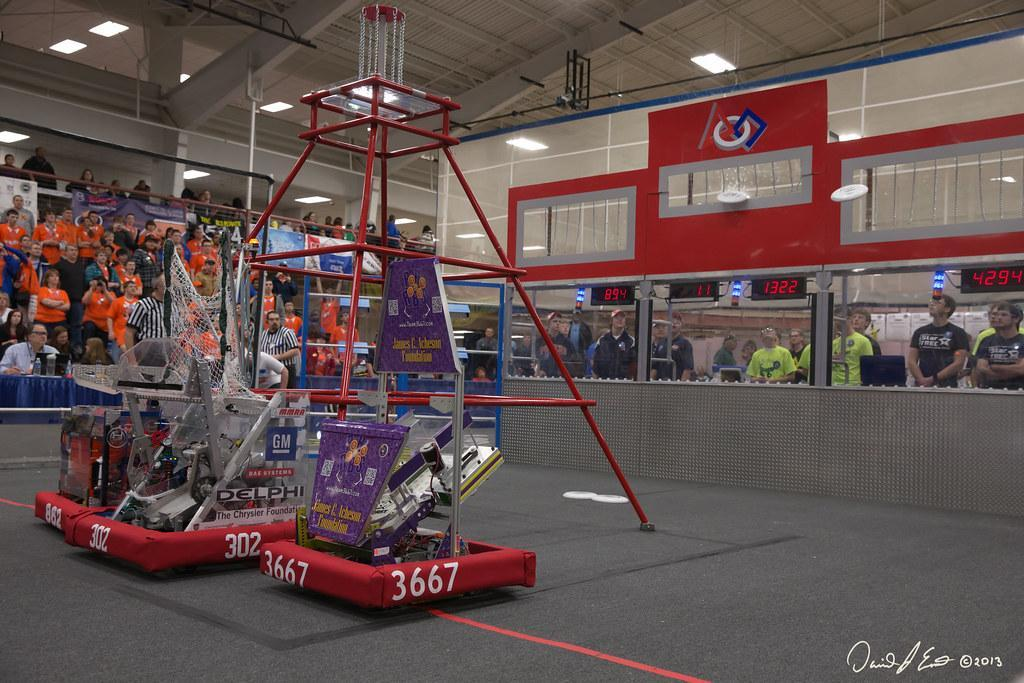robot: (262, 251, 545, 622), (73, 330, 314, 587), (27, 310, 252, 542)
